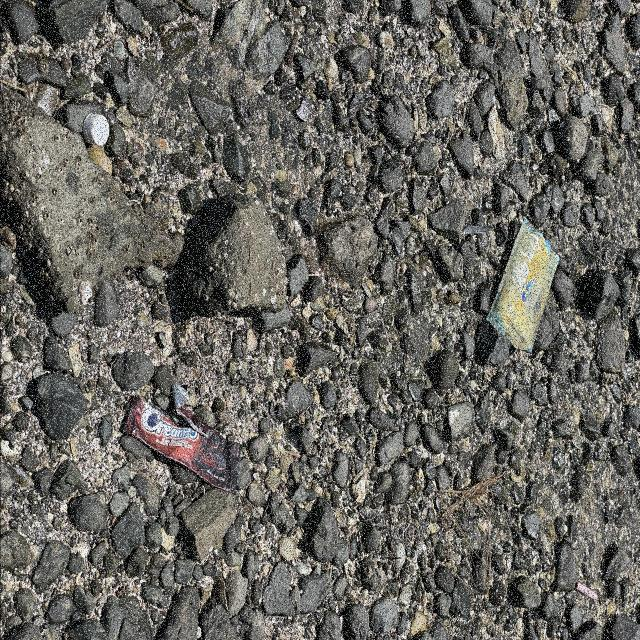plastic_waste: (121, 397, 245, 498), (487, 217, 562, 356), (84, 113, 111, 147)
